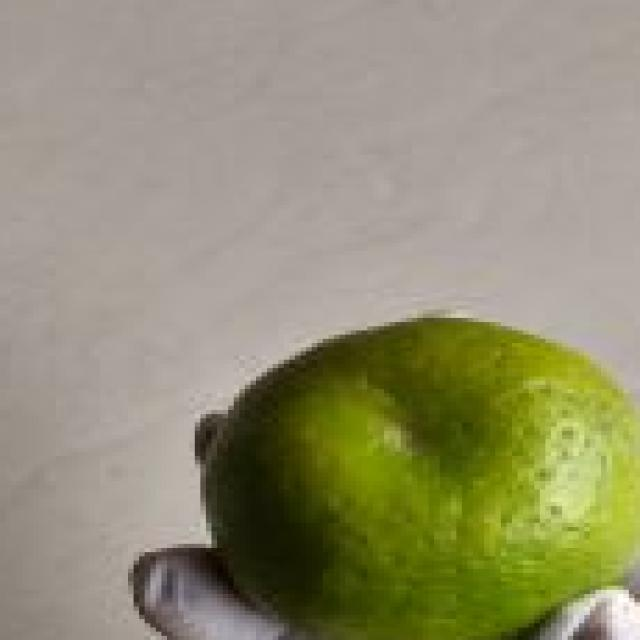Good_Orange-15-21 days: (195, 318, 640, 640)
